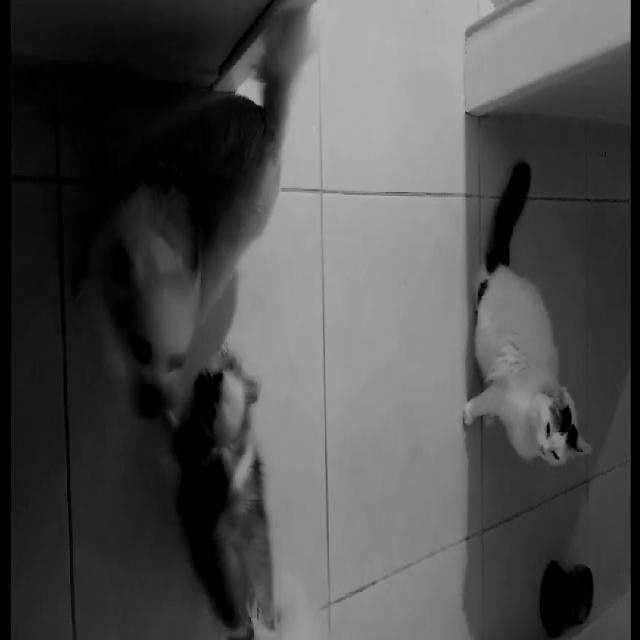Pedrita: (174, 348, 290, 638)
Simba: (456, 200, 588, 514)
Theo: (82, 79, 328, 435)
